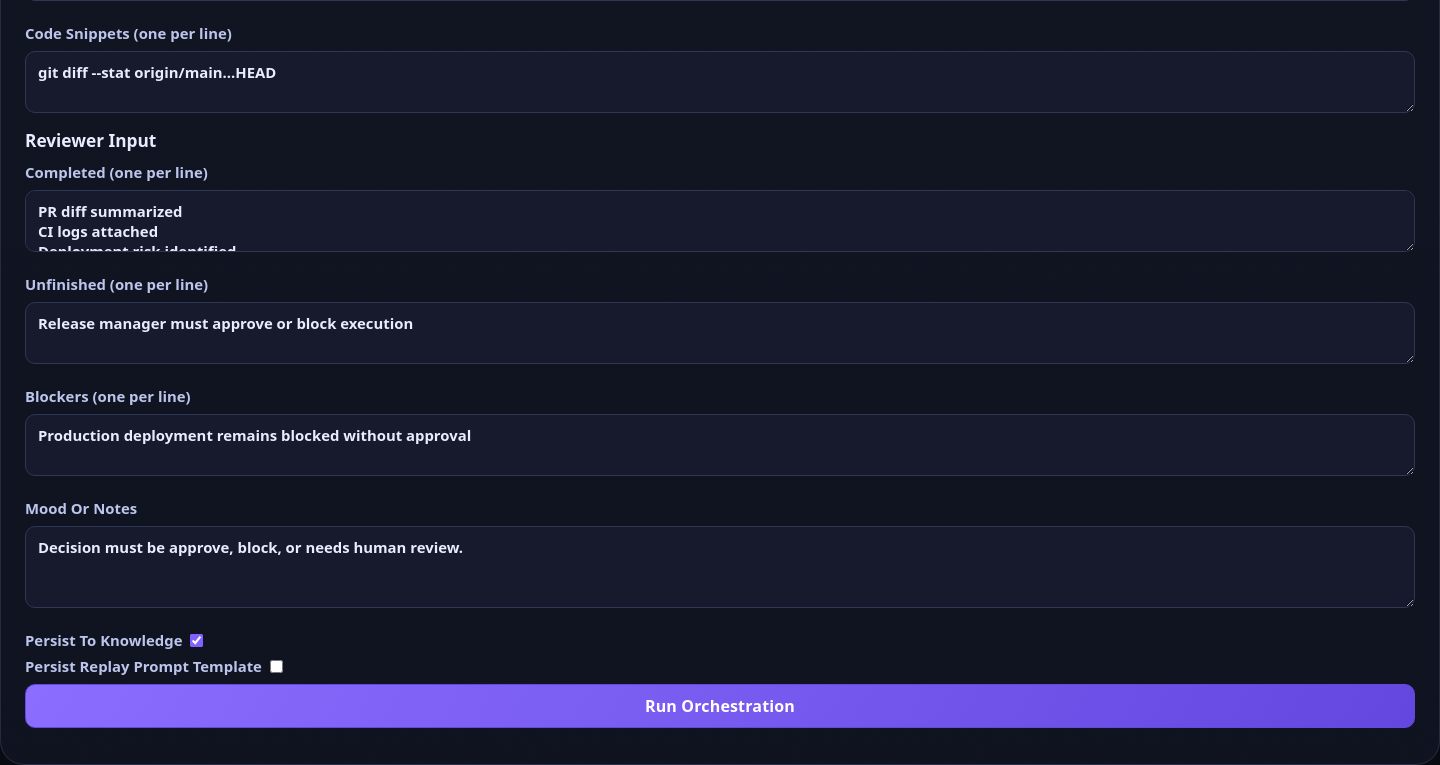
Test: orchestration workflow › refreshes stale entitlement token and retries orchestration once
(page scrolled)
Step 1. Click the button "Run Orchestration" → (720, 706), box [25,684,1415,728]
(page scrolled)
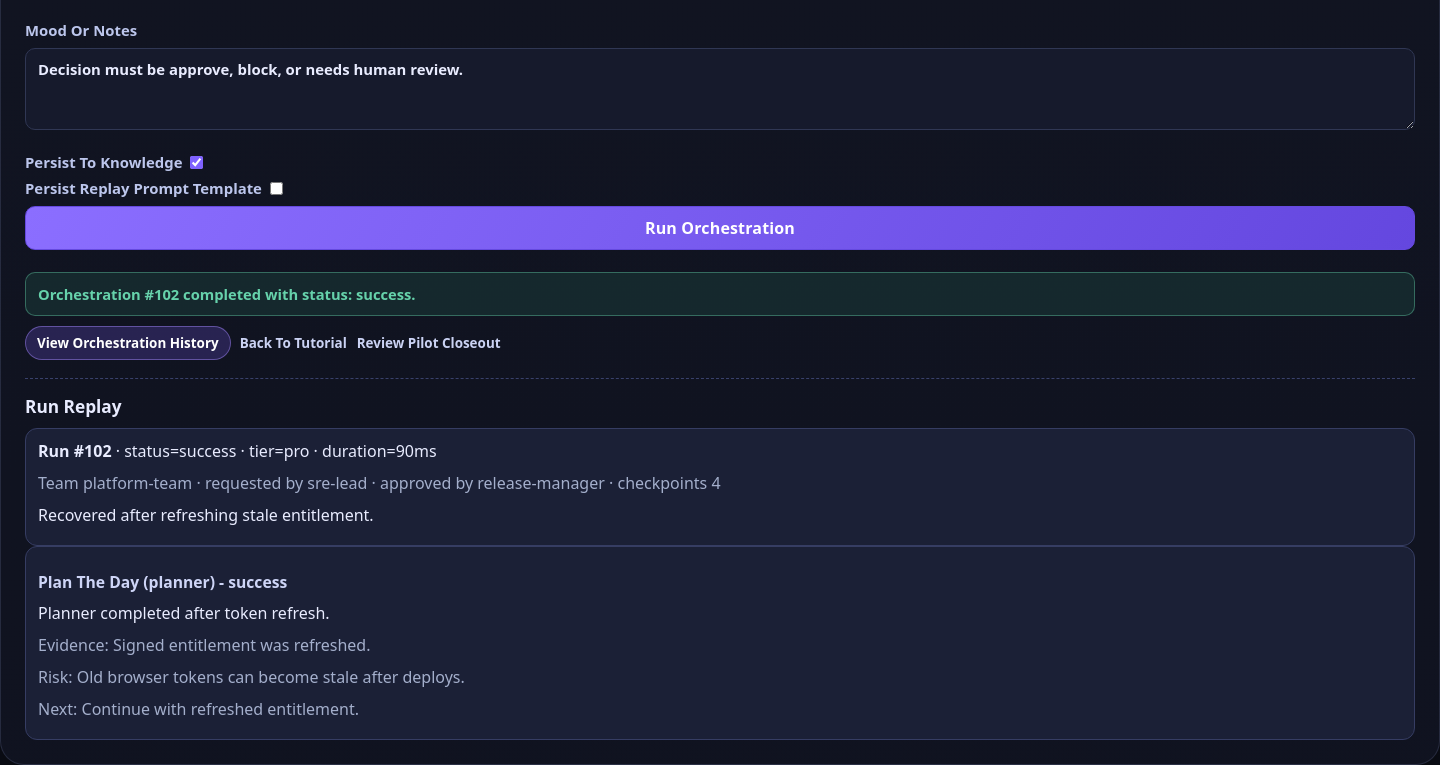
Expected: the text "Run #102" is shown, [38,440,112,462]
